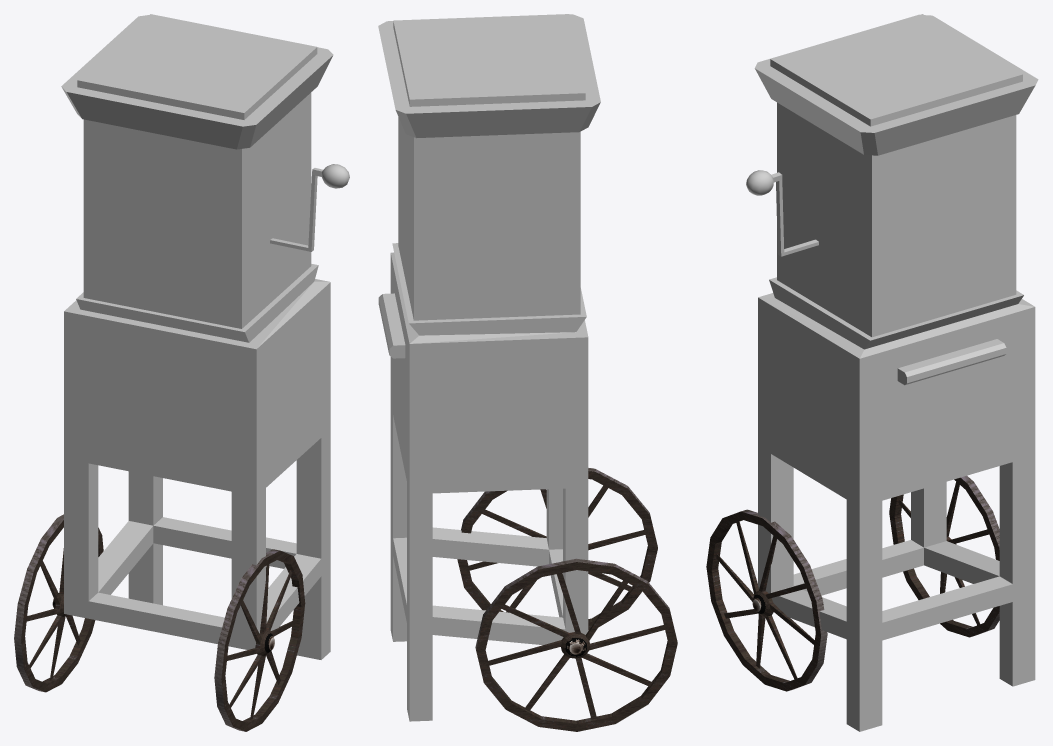
Rendered from Popcorn_Machine.FBX.
The picture shows the model from 3 angles, left to right: view 1: azimuth 30°, elevation 25°; view 2: azimuth 150°, elevation 25°; view 3: azimuth 270°, elevation 25°; orthographic projection. The views are drawn at different scales.
Parts seen in each view (by area): view 1: popcorn, Cylinder001, Cylinder003; view 2: popcorn, Cylinder003, Cylinder001; view 3: popcorn, Cylinder001, Cylinder003.
Boxes of the visible parts, bbox=[...] form: popcorn: bbox=[61, 14, 349, 659]; Cylinder001: bbox=[214, 549, 305, 731]; Cylinder003: bbox=[14, 514, 103, 692]; popcorn: bbox=[378, 14, 600, 721]; Cylinder003: bbox=[475, 558, 677, 731]; Cylinder001: bbox=[457, 468, 657, 630]; popcorn: bbox=[746, 14, 1038, 731]; Cylinder001: bbox=[706, 509, 827, 691]; Cylinder003: bbox=[889, 475, 999, 637].
Bounding box in the file's own units: 27.13 × 52.24 × 25.44.
